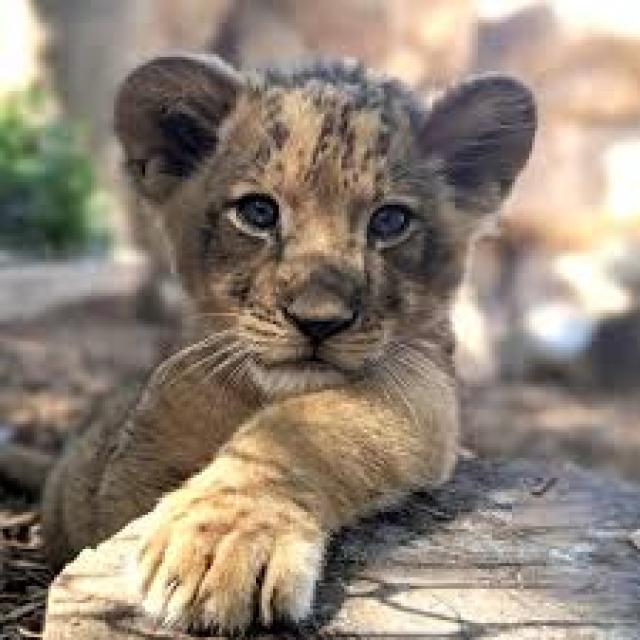Lion: (43, 54, 535, 631)
